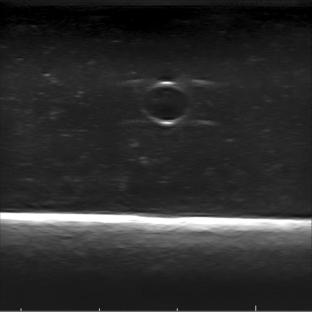vessel: (140, 80, 191, 125)
